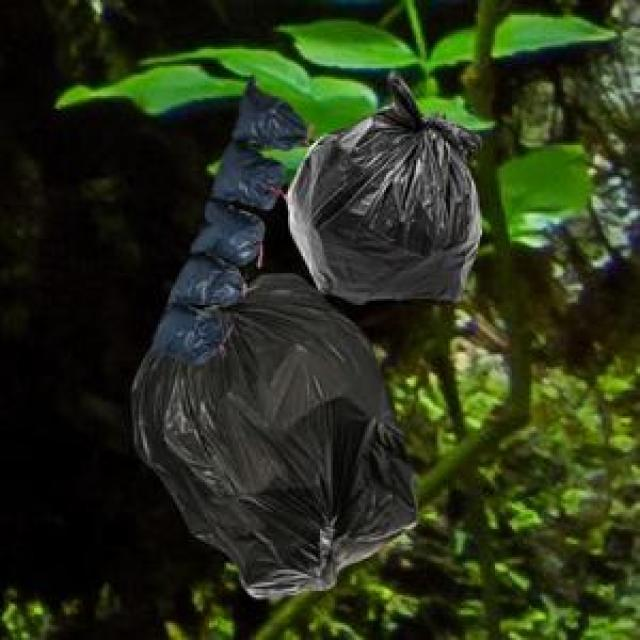waste: (132, 80, 479, 598)
